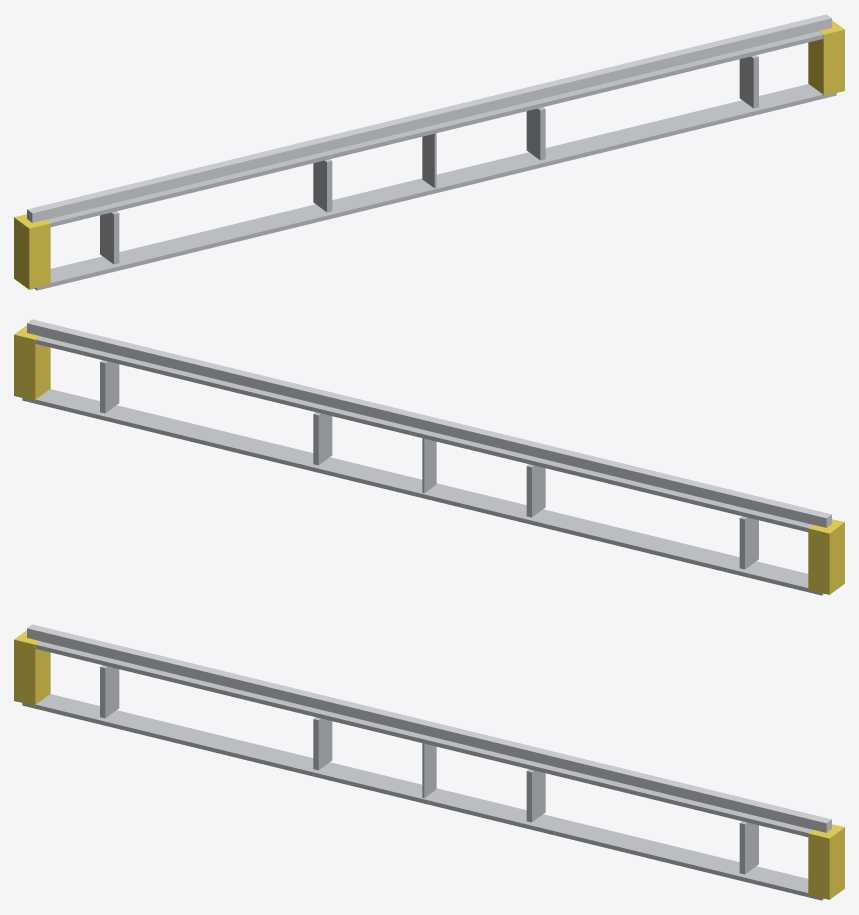
Rendered from gantry-crane-runway-rail-6-m.glb.
3 views of the same model, one above another, from view 1: azimuth 30°, elevation 25°; view 2: azimuth 150°, elevation 25°; view 3: azimuth 330°, elevation 25° (orthographic).
Parts seen in each view (by area): view 1: machine-shop-and-factory-hall-crane-rail-bay; view 2: machine-shop-and-factory-hall-crane-rail-bay; view 3: machine-shop-and-factory-hall-crane-rail-bay.
Boxes of the visible parts, x1,y1,x2,y2 form: machine-shop-and-factory-hall-crane-rail-bay: (14,14,844,290); machine-shop-and-factory-hall-crane-rail-bay: (14,319,844,595); machine-shop-and-factory-hall-crane-rail-bay: (14,624,844,900).
Bounding box in the file's own units: 6.12 × 0.5301 × 0.2002.
